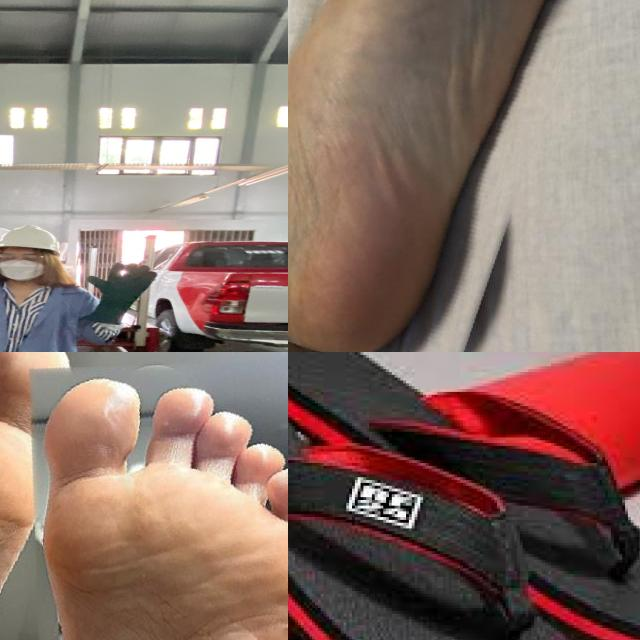Barefoots: (288, 0, 550, 352), (35, 377, 288, 640)
Sandals: (288, 352, 640, 640)
face_mask: (0, 251, 49, 280)
glasses: (0, 252, 47, 264)
hand_glove: (82, 260, 159, 302)
head_helmet: (0, 221, 65, 253)
person: (0, 222, 160, 352)
